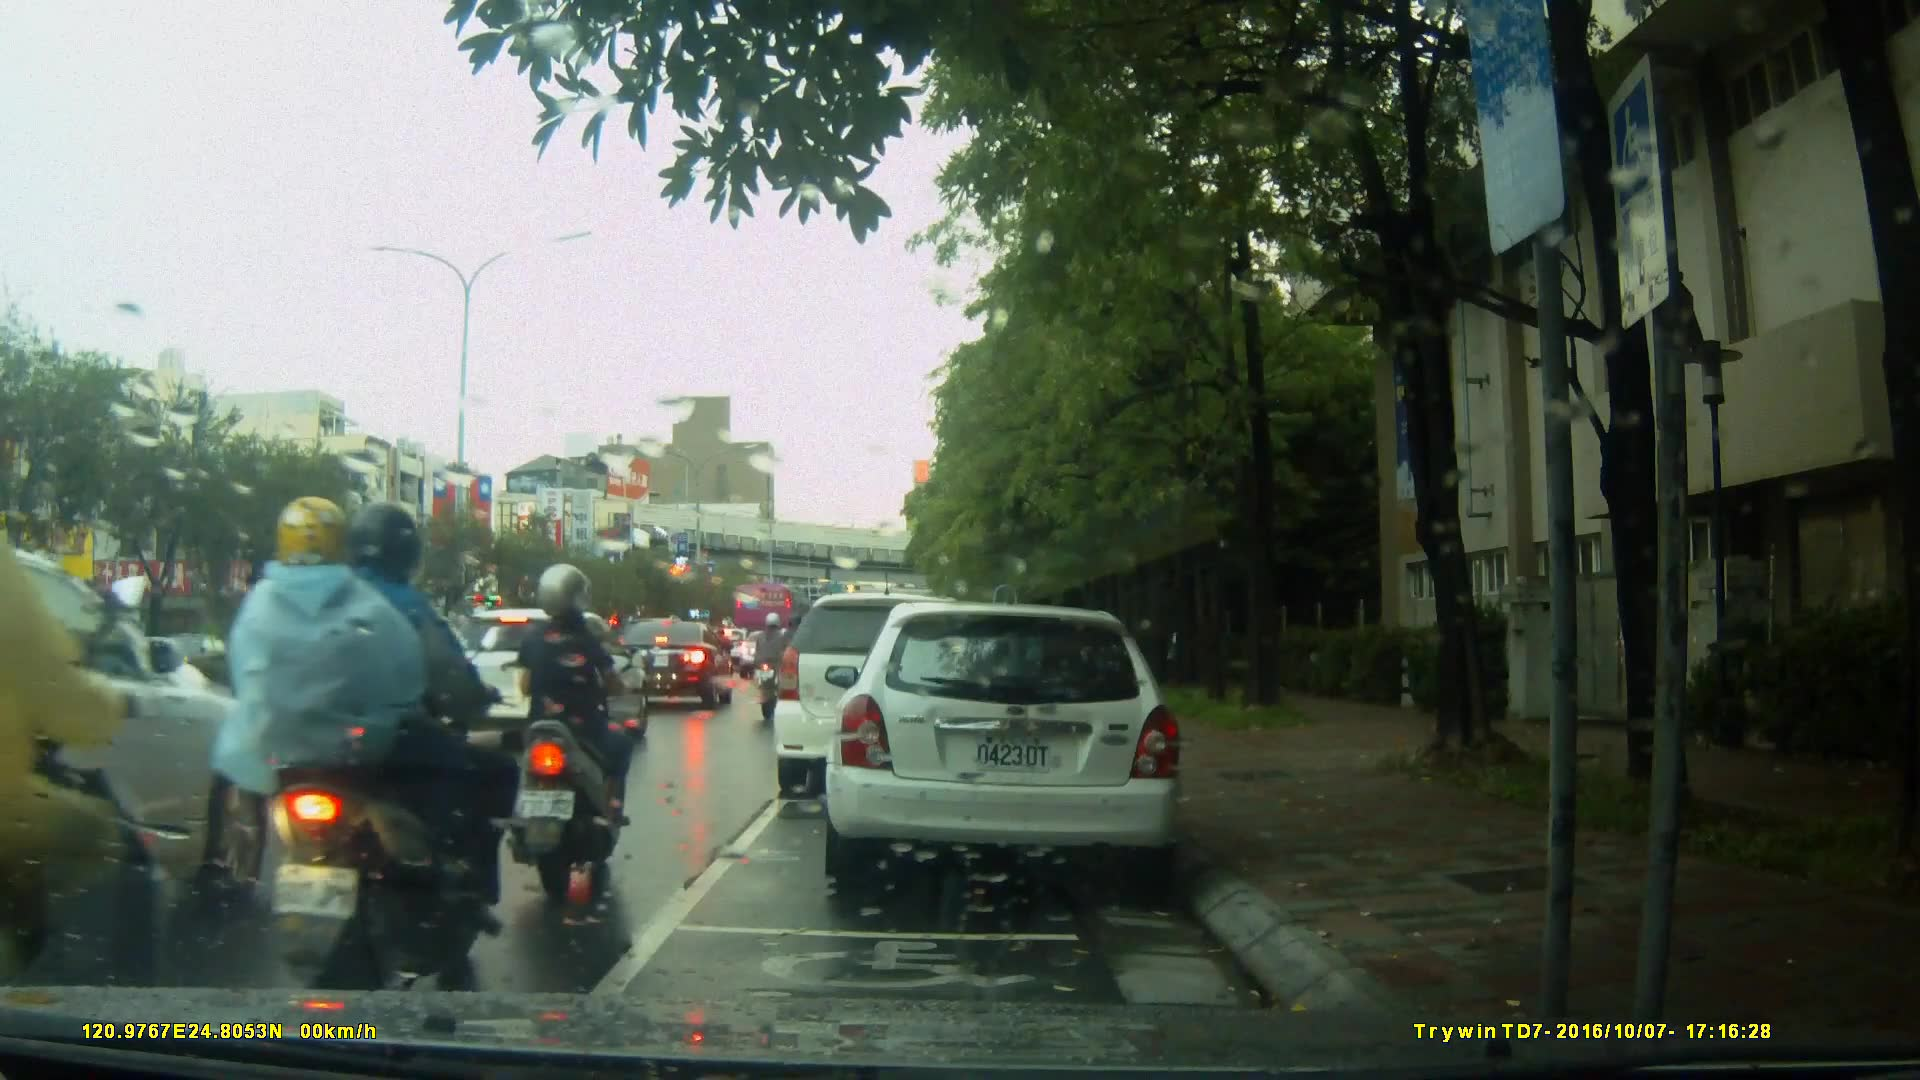rider: (204, 494, 508, 1005), (1, 428, 180, 1043), (504, 567, 641, 903), (749, 612, 805, 726)
vehicle: (835, 594, 1194, 898), (776, 590, 1026, 784), (437, 606, 653, 751), (608, 618, 736, 710), (735, 582, 813, 653)
